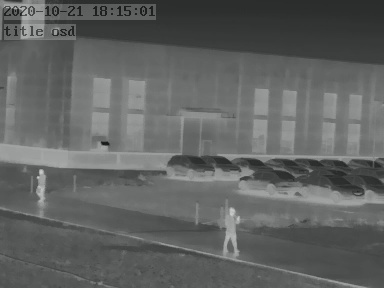person: (223, 206, 239, 255), (35, 168, 47, 204)
vehicle: (236, 171, 301, 195), (302, 174, 362, 200), (165, 153, 214, 178), (203, 153, 242, 177), (353, 173, 384, 202), (261, 155, 301, 172), (232, 155, 270, 172), (347, 156, 377, 169), (296, 156, 324, 169), (319, 156, 347, 168)
